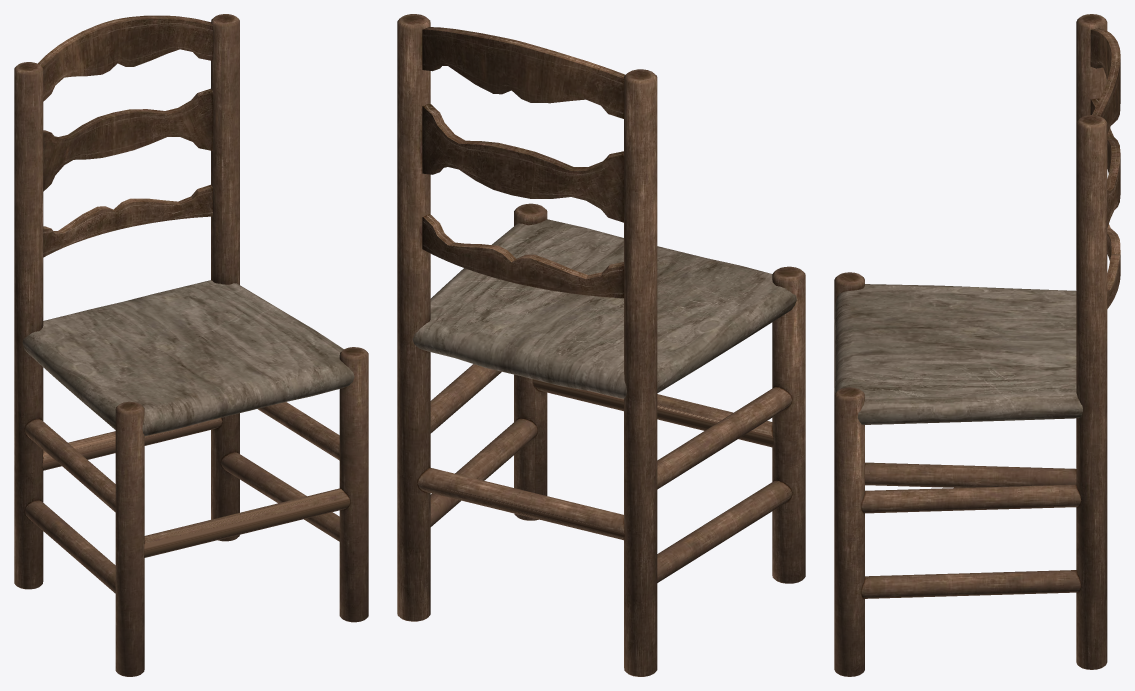
The model's file is chair.glb.
3 renders of one model, left to right at view 1: azimuth 30°, elevation 25°; view 2: azimuth 150°, elevation 25°; view 3: azimuth 270°, elevation 25°, orthographic. The views are drawn at different scales.
Parts seen in each view (by area): view 1: Cylinder.003_Chair1_0; view 2: Cylinder.003_Chair1_0; view 3: Cylinder.003_Chair1_0.
Boxes of the visible parts, box(x1,y1,x2,y2) form: Cylinder.003_Chair1_0: box(14, 14, 368, 676); Cylinder.003_Chair1_0: box(397, 14, 805, 676); Cylinder.003_Chair1_0: box(834, 14, 1120, 676).
Bounding box in the file's own units: 0.751 × 1.53 × 0.7094.
1 material, 1 textured.
